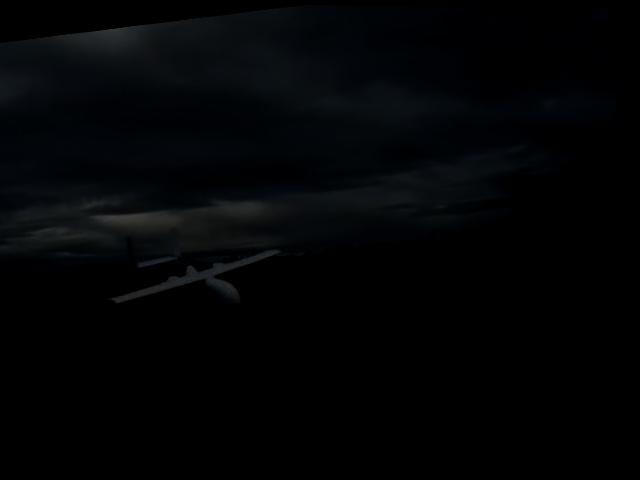uav: (94, 212, 297, 329)
